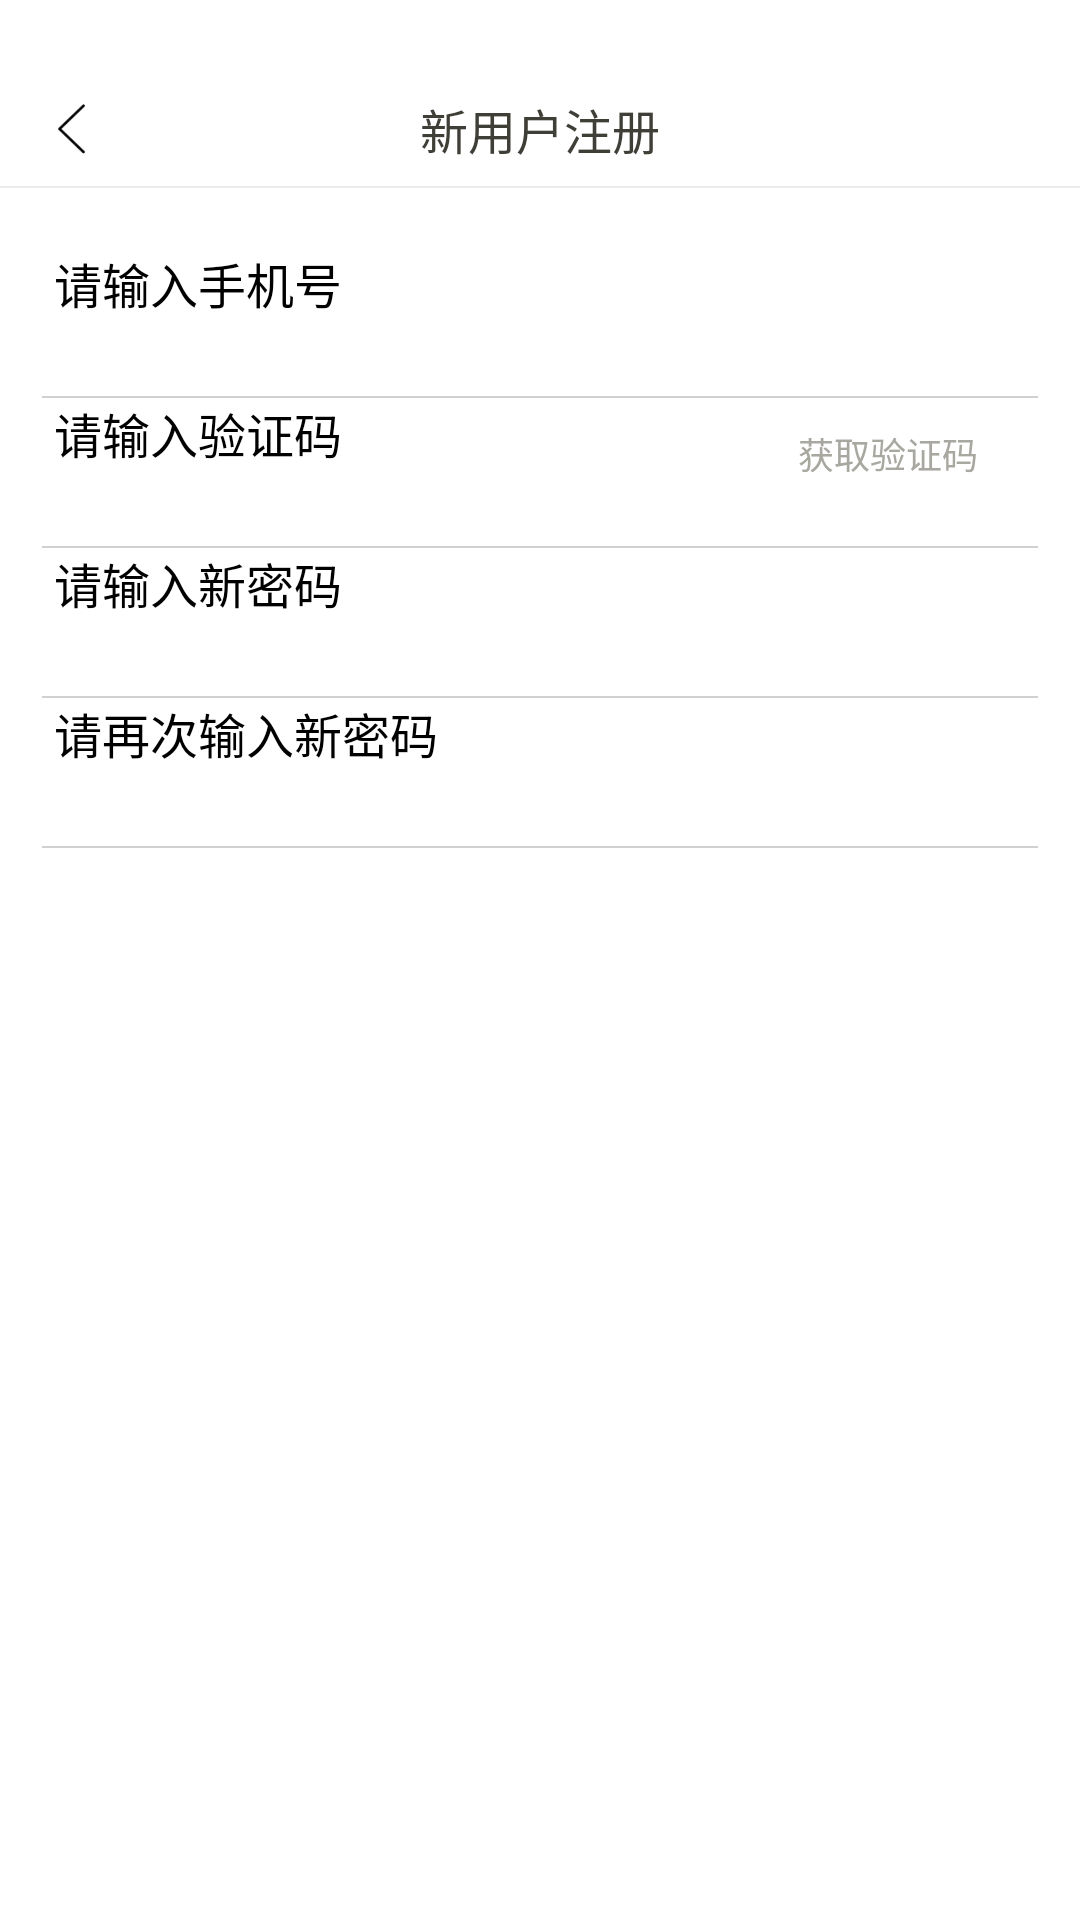

Point at icon controls on the screen. Image size 1080 × 1920, points as (x=x, y=y).
back: (x=71, y=129)
